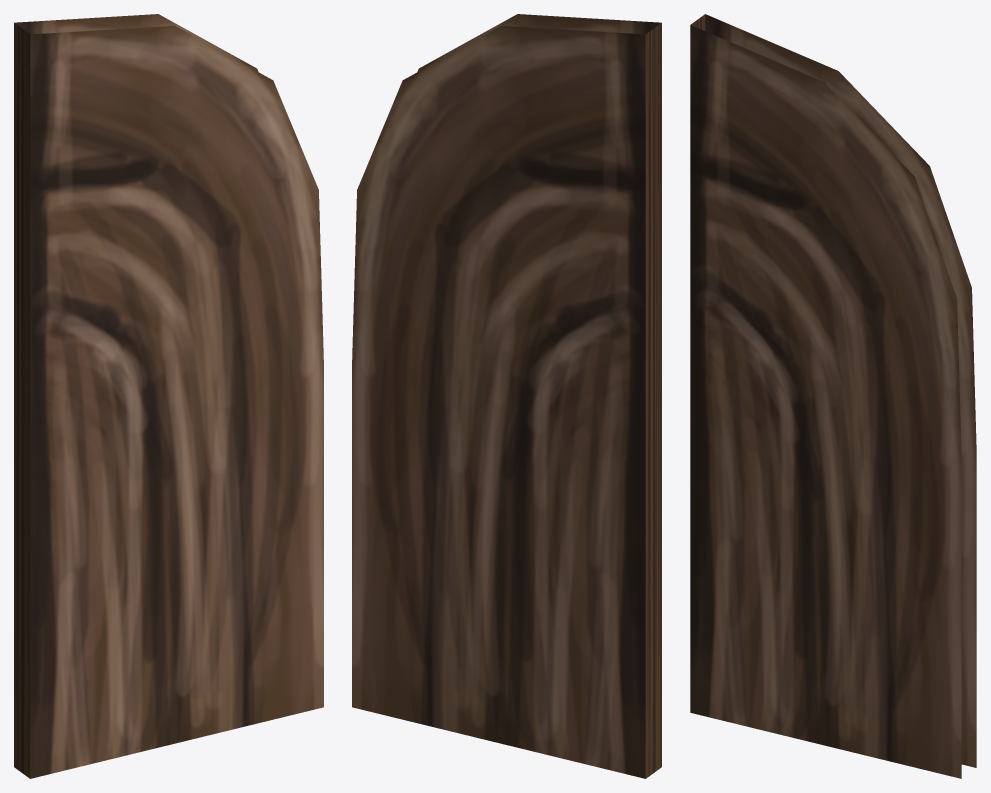
File: LittleDoor.fbx
The picture shows the model from 3 angles, left to right: view 1: azimuth 30°, elevation 25°; view 2: azimuth 150°, elevation 25°; view 3: azimuth 330°, elevation 25°; orthographic projection. The views are drawn at different scales.
Parts seen in each view (by area): view 1: Cube.002; view 2: Cube.002; view 3: Cube.002.
Boxes of the visible parts, left/top/right/bottom form: Cube.002: left=14, top=14, right=323, bottom=778; Cube.002: left=352, top=14, right=661, bottom=778; Cube.002: left=690, top=14, right=976, bottom=778.
Size of the model in its own units: 6 by 14.54 by 0.57.
